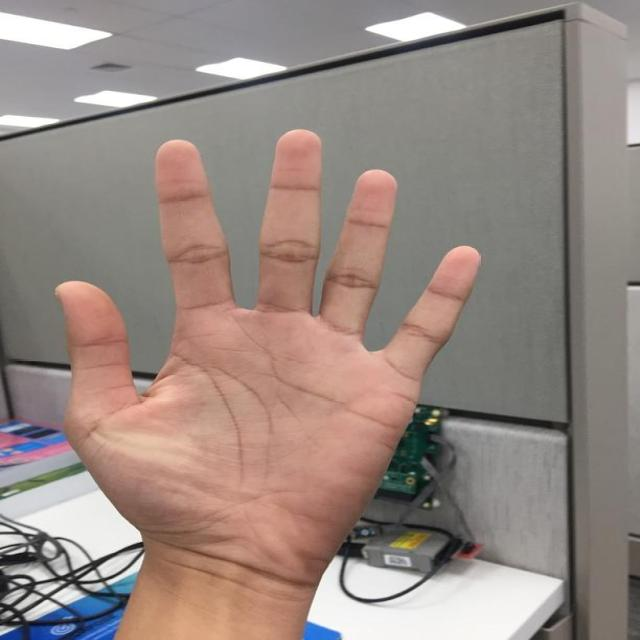hand: (57, 127, 482, 569)
